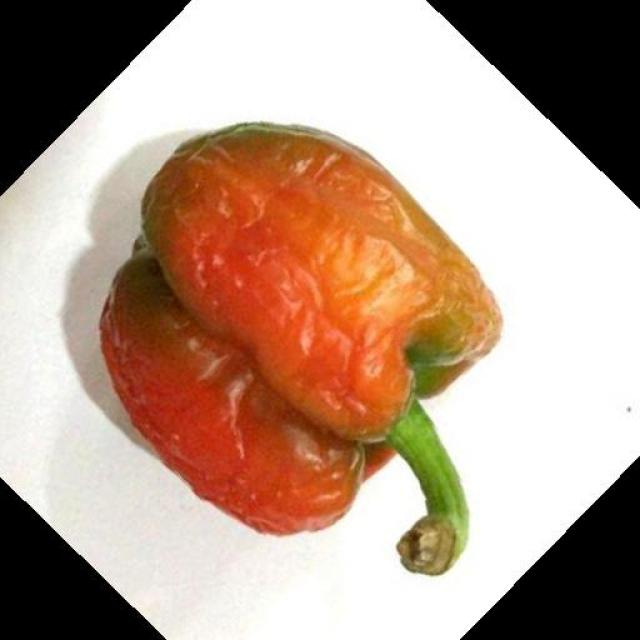Stale_Capsicum: (97, 116, 515, 640)
